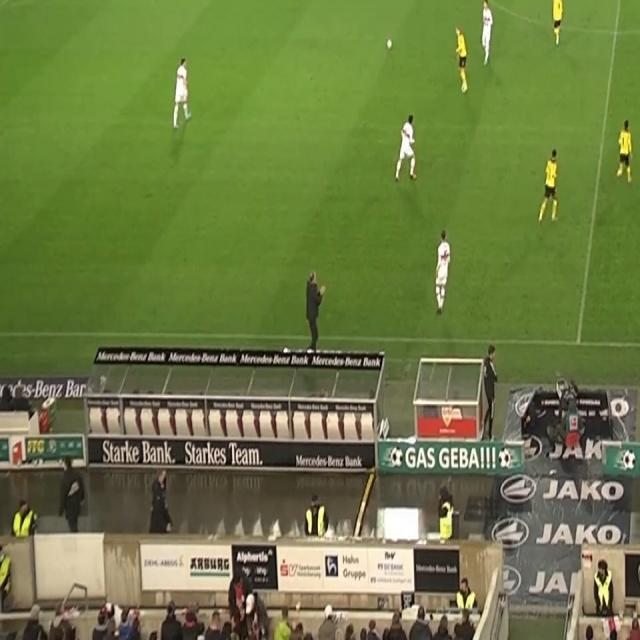ball: (386, 37, 393, 50)
